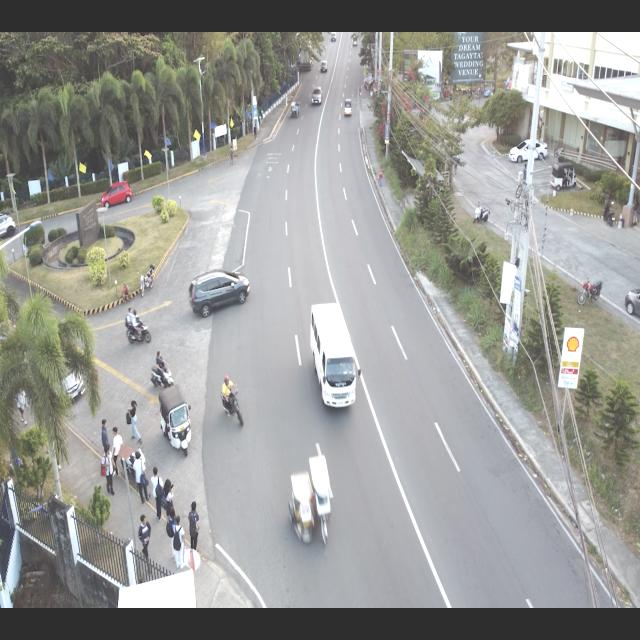bicycle: (554, 144, 566, 160)
car: (309, 301, 361, 413), (188, 266, 250, 318), (508, 137, 548, 163), (100, 180, 133, 210), (311, 85, 323, 107), (320, 60, 328, 74)
motorcycle: (284, 456, 334, 548), (159, 386, 194, 454), (219, 374, 245, 428), (125, 306, 152, 345), (150, 350, 175, 390), (576, 276, 604, 306), (137, 262, 155, 298), (472, 200, 490, 225), (602, 199, 616, 228)
person: (133, 452, 151, 503), (100, 445, 117, 498), (150, 466, 165, 522), (162, 478, 176, 534), (138, 512, 152, 566), (126, 400, 142, 445), (111, 427, 124, 479), (188, 500, 200, 556), (174, 515, 186, 570), (166, 506, 178, 561), (100, 419, 111, 466), (121, 282, 132, 304), (378, 167, 383, 188), (230, 145, 234, 166)
